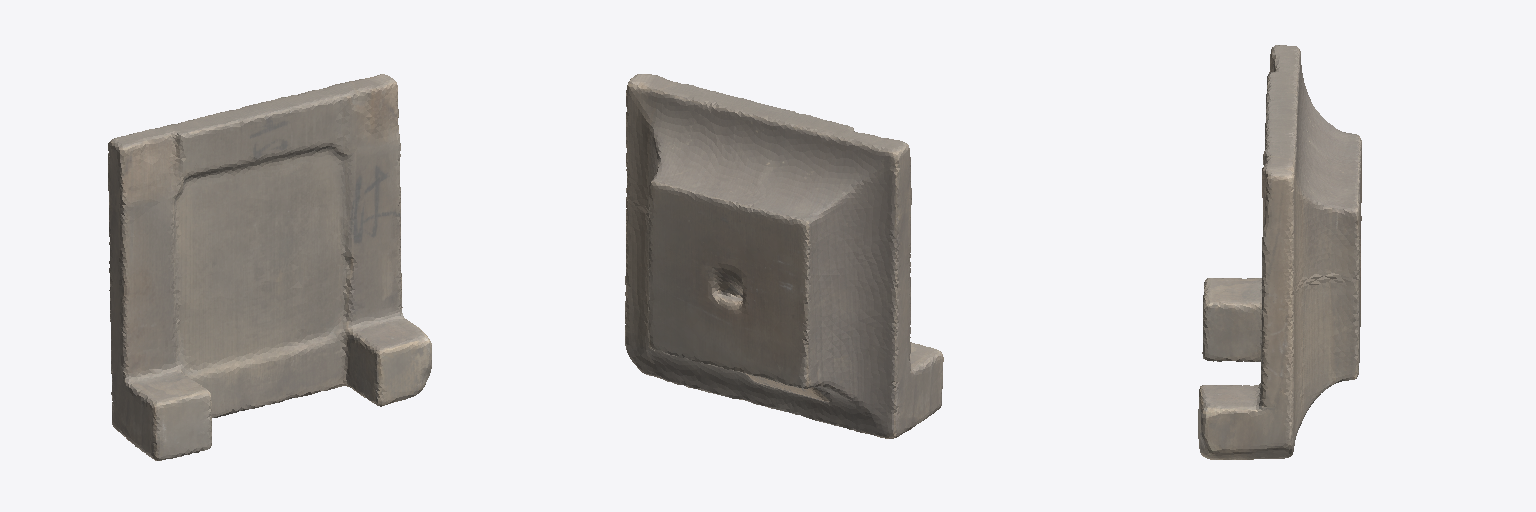
3 renders of one model, left to right at view 1: azimuth 30°, elevation 25°; view 2: azimuth 150°, elevation 25°; view 3: azimuth 270°, elevation 25°, orthographic.
Visible parts, largest first — view 1: �f�t�H���g; view 2: �f�t�H���g; view 3: �f�t�H���g.
Boxes of the visible parts, x1=… form: �f�t�H���g: x1=108, y1=74, x2=431, y2=460; �f�t�H���g: x1=625, y1=74, x2=943, y2=438; �f�t�H���g: x1=1198, y1=45, x2=1361, y2=459.
Size of the model in its own units: 256 by 258 by 130.
Materials: 1 (1 with a texture image).